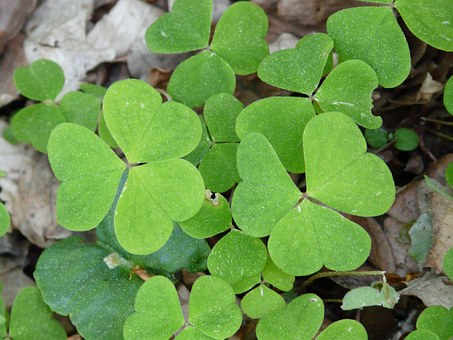oxalis: (19, 39, 453, 339)
